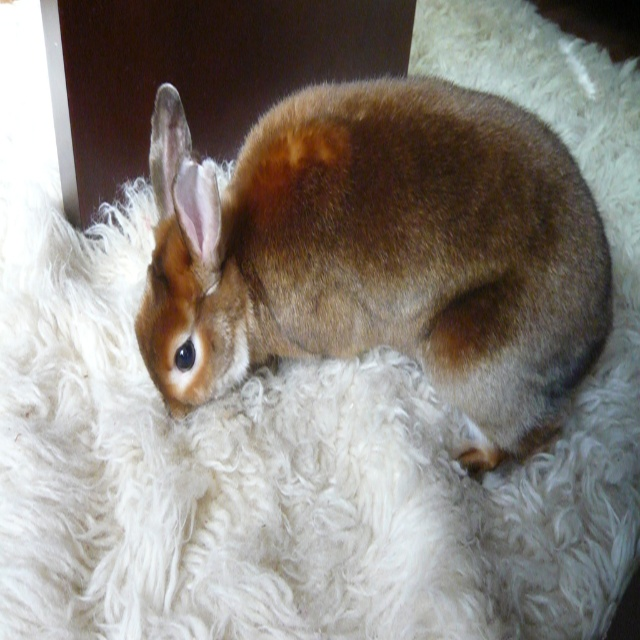Rabbit: (135, 84, 611, 468)
